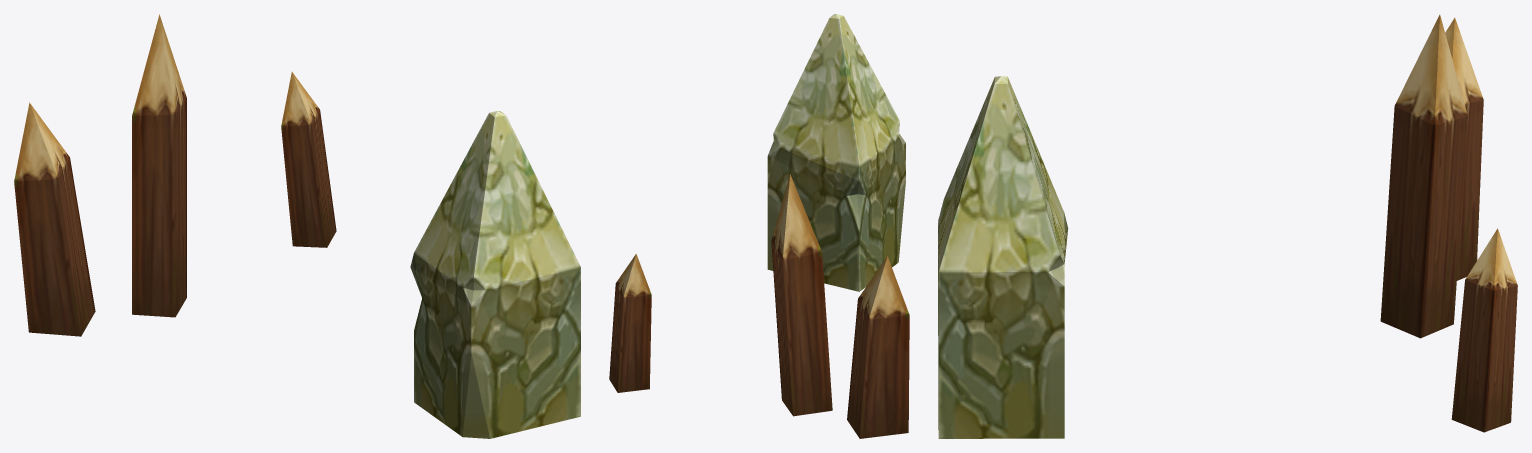
Rendered from Cunluo_xiaowujian02.FBX.
The picture shows the model from 3 angles, left to right: view 1: azimuth 30°, elevation 25°; view 2: azimuth 150°, elevation 25°; view 3: azimuth 270°, elevation 25°; orthographic projection. The views are drawn at different scales.
Visible parts, largest first — view 1: Cunluo_xiaowujian02; view 2: Cunluo_xiaowujian02; view 3: Cunluo_xiaowujian02.
Boxes of the visible parts, bbox=[...] form: Cunluo_xiaowujian02: bbox=[14, 14, 580, 438]; Cunluo_xiaowujian02: bbox=[609, 14, 909, 438]; Cunluo_xiaowujian02: bbox=[938, 14, 1517, 438].
Bounding box in the file's own units: 203 × 170 × 268.
